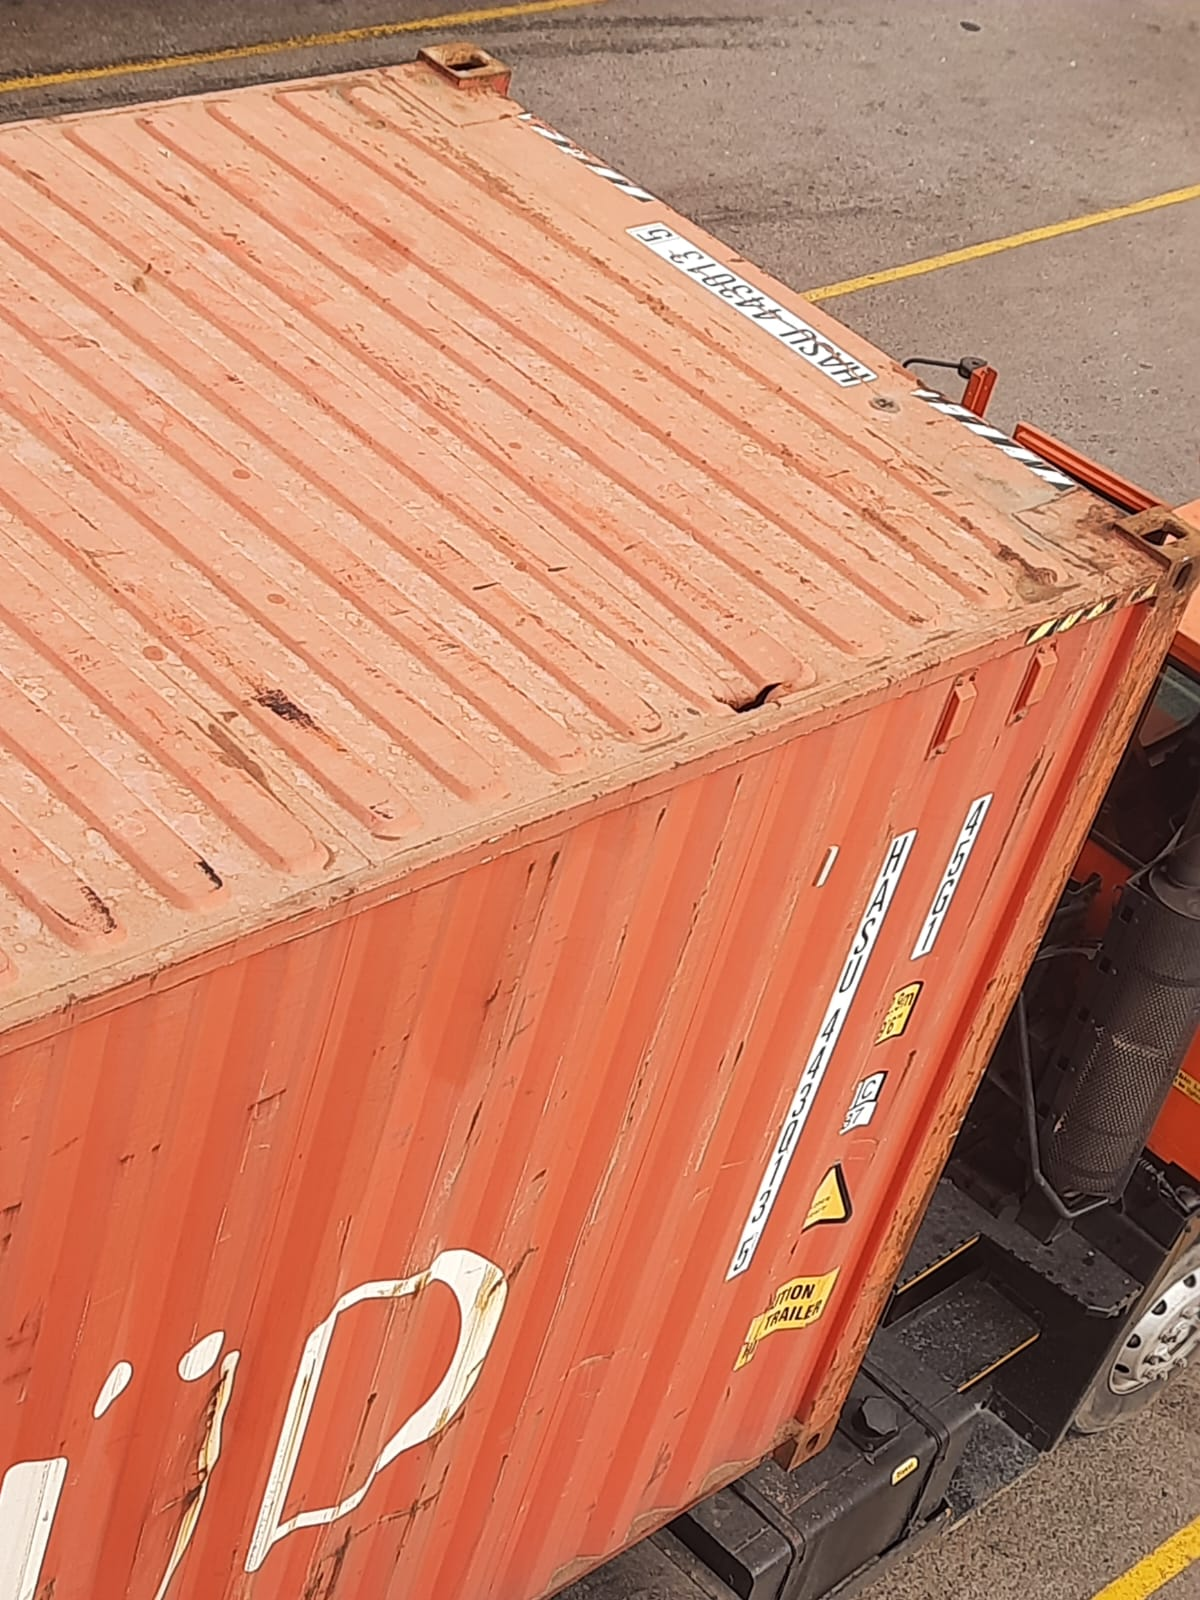severe: (707, 677, 799, 721)
